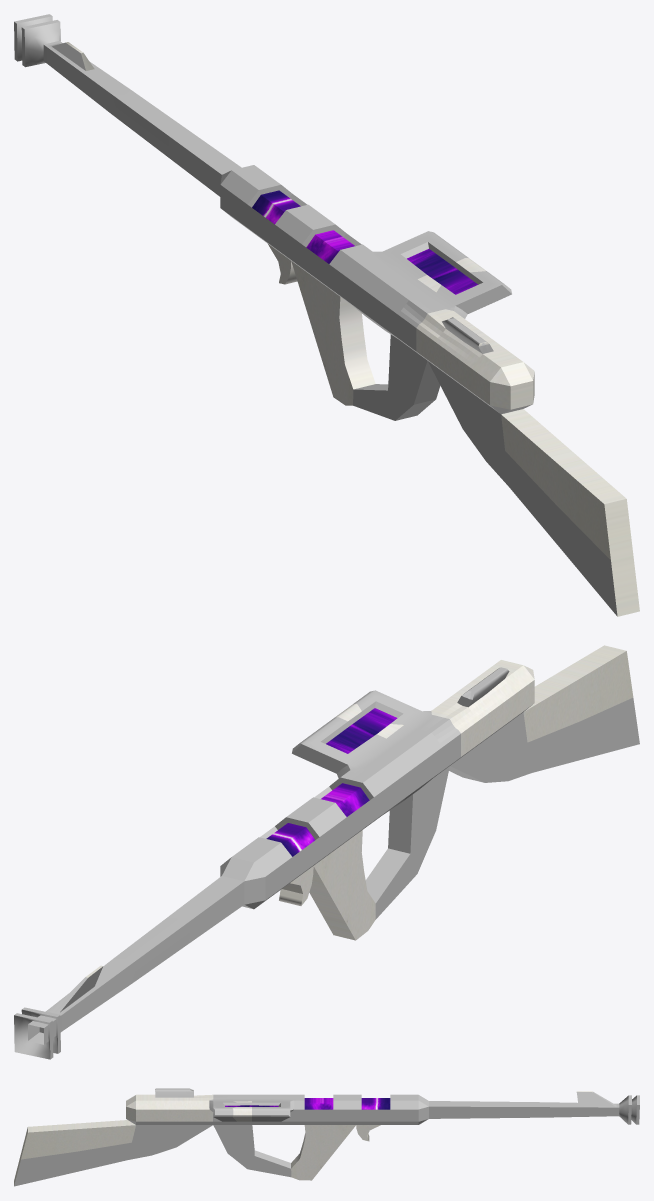
Rendered from Lblaster.fbx.
The picture shows the model from 3 angles, top to bottom: view 1: azimuth 30°, elevation 25°; view 2: azimuth 150°, elevation 25°; view 3: azimuth 270°, elevation 25°; orthographic projection. The views are drawn at different scales.
Parts seen in each view (by area): view 1: pCube2; view 2: pCube2; view 3: pCube2.
Boxes of the visible parts, box(x1,y1,x2,y2) form: pCube2: box(14, 14, 639, 616); pCube2: box(14, 645, 639, 1059); pCube2: box(14, 1088, 639, 1186).
Size of the model in its own units: 1.08 by 1.87 by 11.53.
